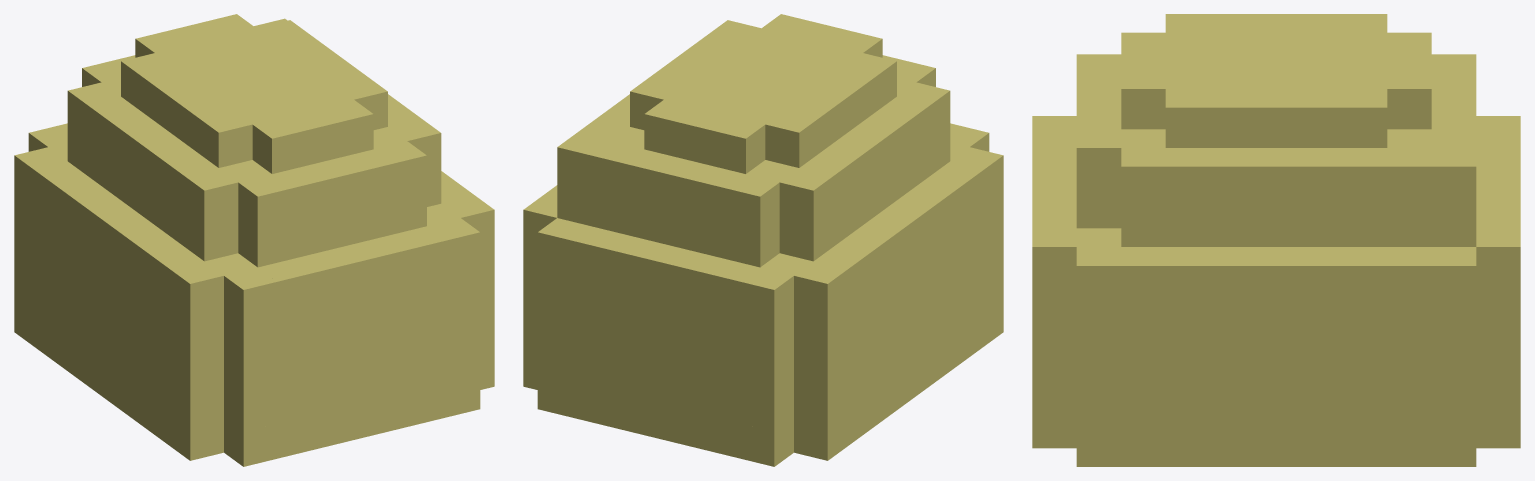
Rendered from Matojo.fbx.
The picture shows the model from 3 angles, left to right: view 1: azimuth 30°, elevation 25°; view 2: azimuth 150°, elevation 25°; view 3: azimuth 270°, elevation 25°; orthographic projection. The views are drawn at different scales.
Parts seen in each view (by area): view 1: matojo_9x8x11; view 2: matojo_9x8x11; view 3: matojo_9x8x11.
Part boxes in pixels (x1,y1,x2,y2): matojo_9x8x11: (14,14,494,466); matojo_9x8x11: (523,14,1003,466); matojo_9x8x11: (1032,14,1520,466).
Bounding box in the file's own units: 205 × 182 × 251.
